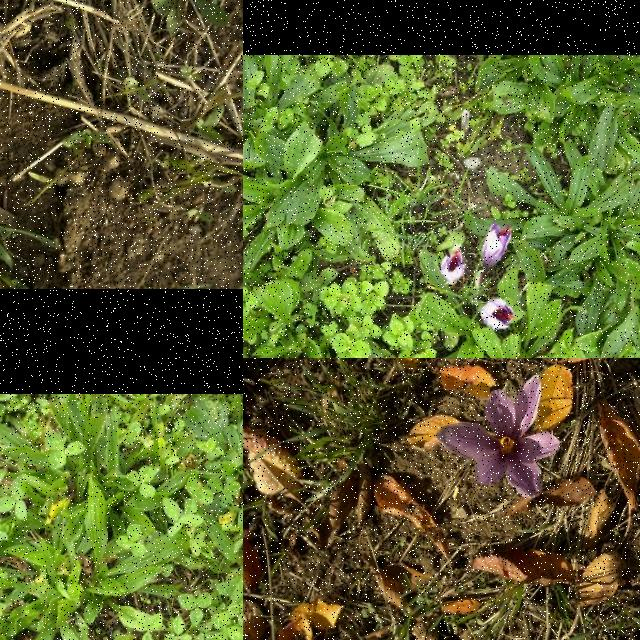flower: (437, 376, 561, 498), (481, 223, 513, 270), (481, 298, 517, 330), (441, 249, 467, 285)
